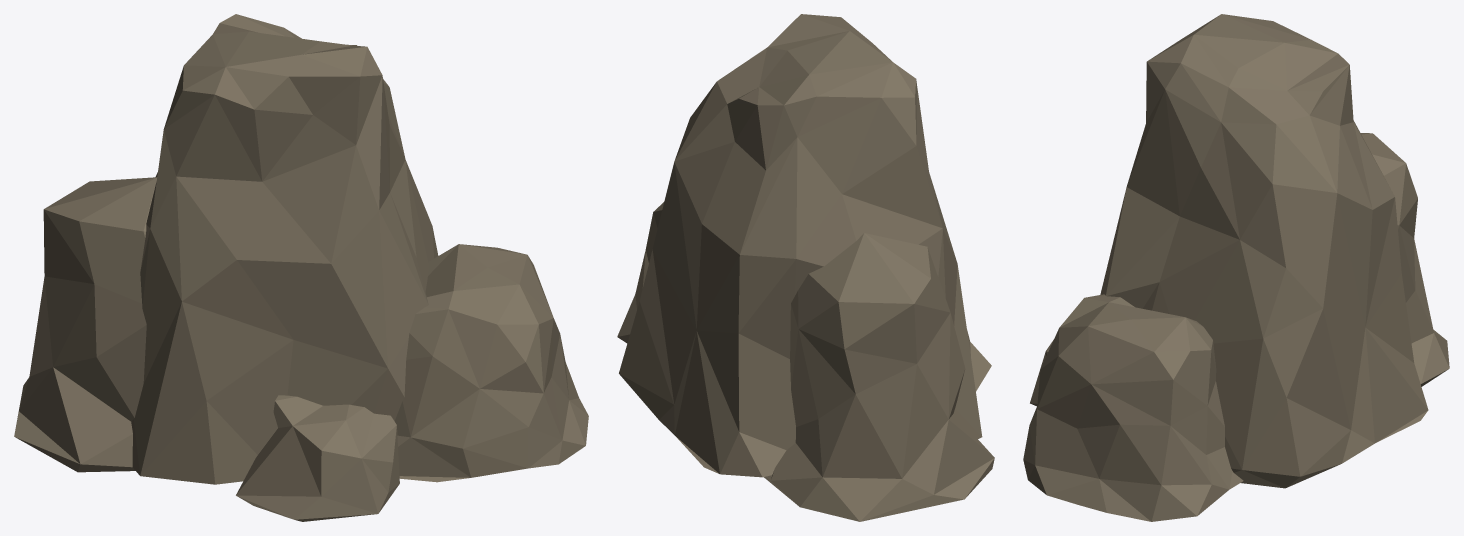
Rendered from LargeRock_3.fbx.
3 renders of one model, left to right at view 1: azimuth 30°, elevation 25°; view 2: azimuth 150°, elevation 25°; view 3: azimuth 270°, elevation 25°, orthographic. The views are drawn at different scales.
Visible parts, largest first — view 1: LargeRock_3; view 2: LargeRock_3; view 3: LargeRock_3.
Part boxes in pixels (x1,y1,x2,y2): LargeRock_3: (14,14,588,521); LargeRock_3: (617,14,994,521); LargeRock_3: (1023,14,1449,521).
Size of the model in its own units: 291 by 243 by 246.
